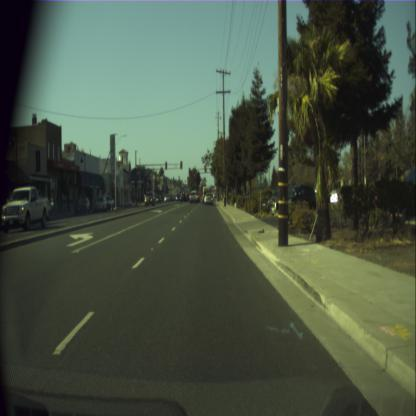Red: (204, 166, 206, 172)
